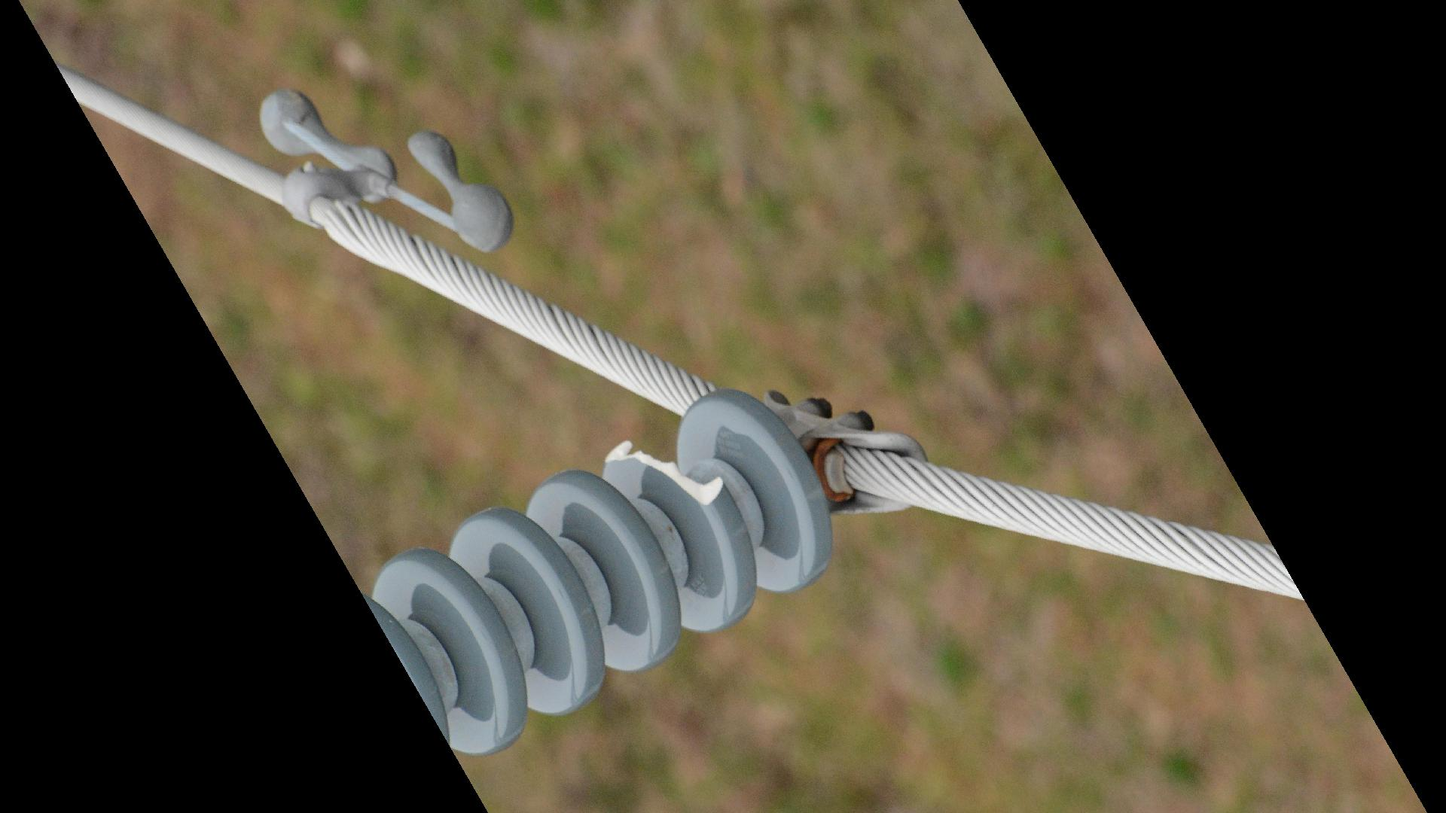insulator: (362, 381, 842, 765)
insulator_breakage: (598, 432, 734, 514)
